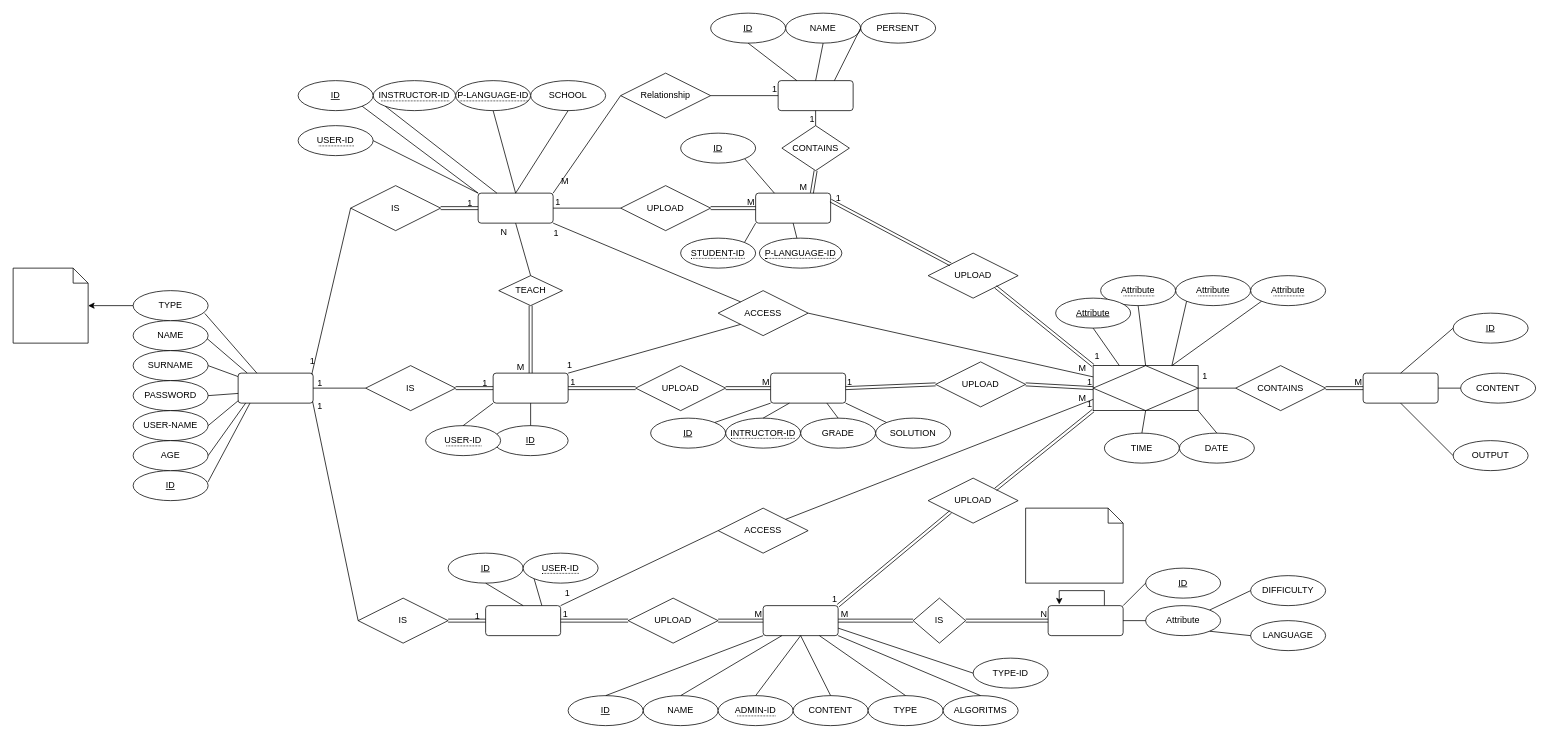
The diagram is 1549 pixels wide and 739 high, and some of its shapes have lost their labels. Here are the shapes that lost their labels. From the top down, the box of each, then its label:
(777, 80, 853, 111): P-LANGUAGE
(477, 192, 553, 223): STUDENT
(755, 192, 831, 223): SOURCE-CODE-BASE
(12, 267, 88, 343): CHOISE : 1. STUDENT 2. INSTRUCTOR 3. ADMIN
(237, 372, 313, 403): USER
(492, 372, 568, 403): INSTRUCTOR
(770, 372, 846, 403): GRADE-BASE
(1092, 365, 1198, 411): SYSTEM
(1362, 372, 1438, 403): TEST-EXAMPLES
(1025, 507, 1123, 583): CHECKING IF THE TYPE IS SIMILAR TO OTHERS IN THE TABLE
(485, 605, 561, 636): ADMIN
(762, 605, 838, 636): ASSINGMENT-BASE
(1047, 605, 1123, 636): TYPE OF ASSINGMENT
